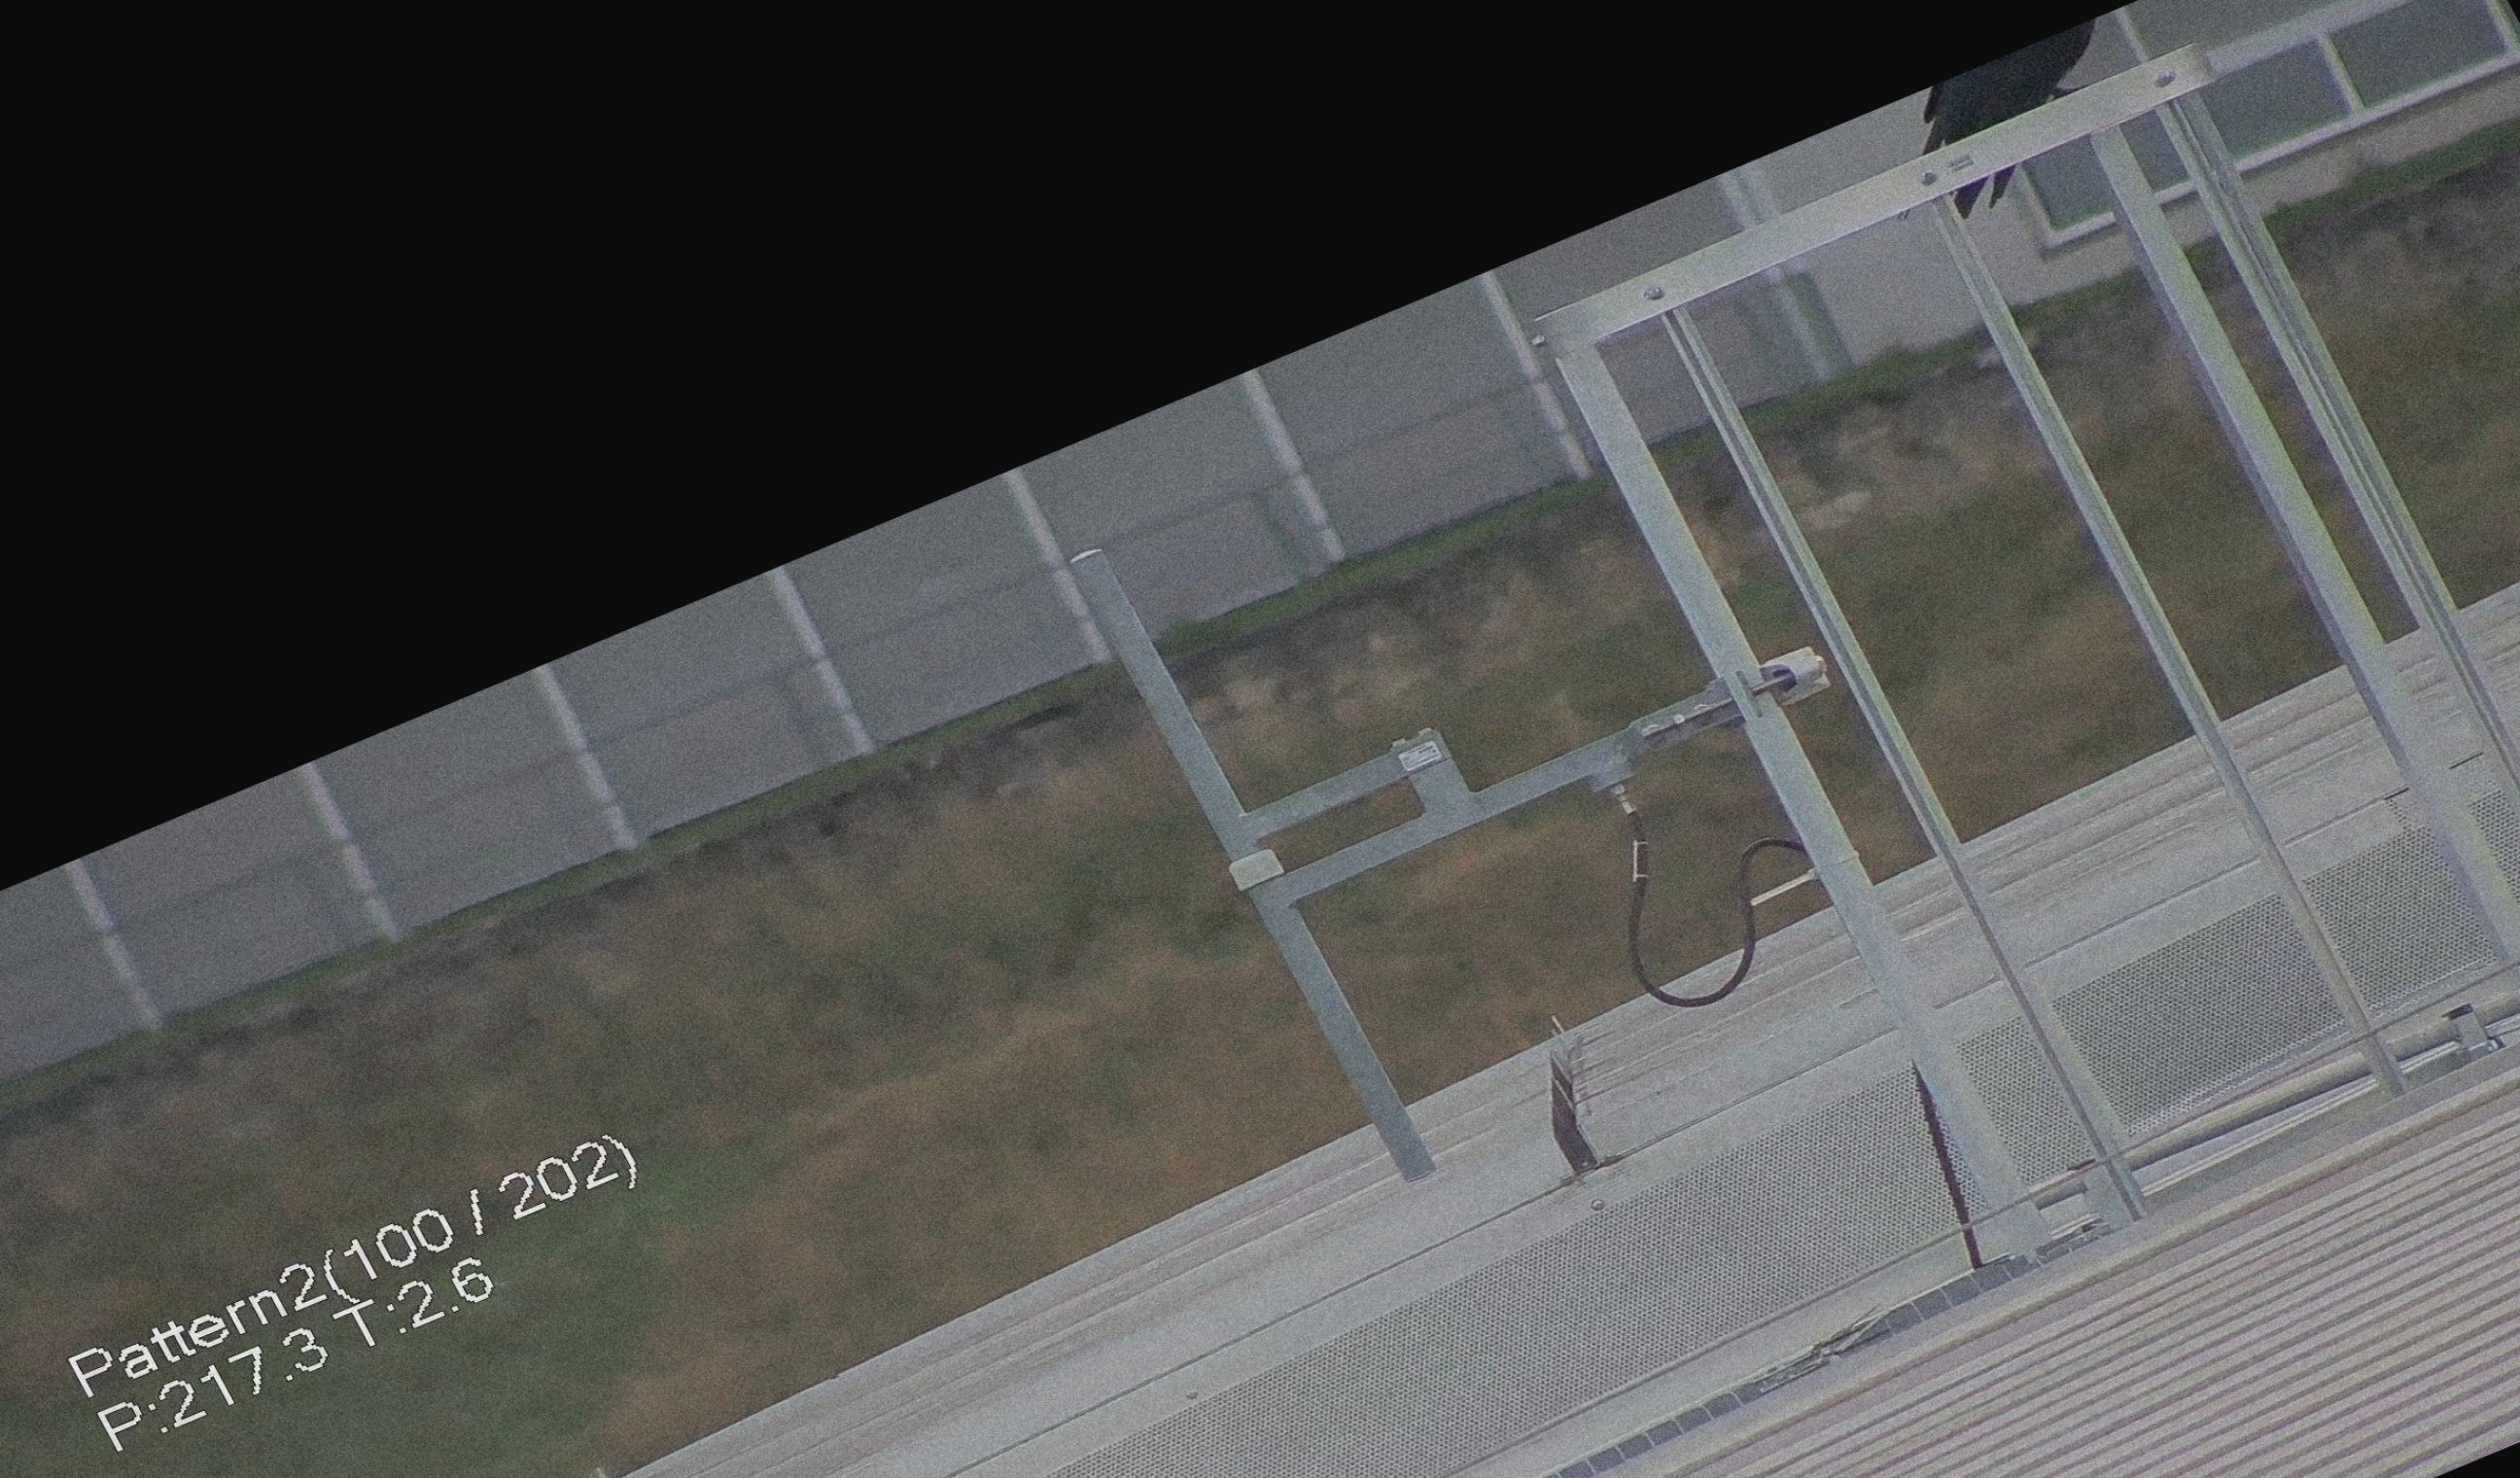Other: (2504, 523, 2520, 716)
